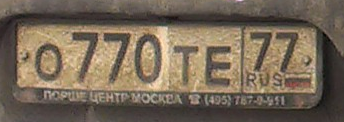character: (69, 26, 103, 86), (103, 26, 134, 88), (134, 31, 165, 88), (204, 43, 234, 90), (32, 42, 64, 86), (170, 43, 201, 88), (248, 30, 274, 72), (274, 30, 299, 73)
